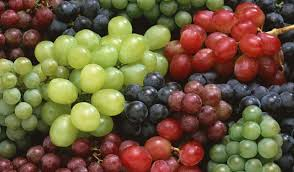Green grapes: (24, 40, 151, 108), (229, 125, 276, 171)
Red Grapes: (114, 107, 212, 172), (179, 22, 265, 67)
